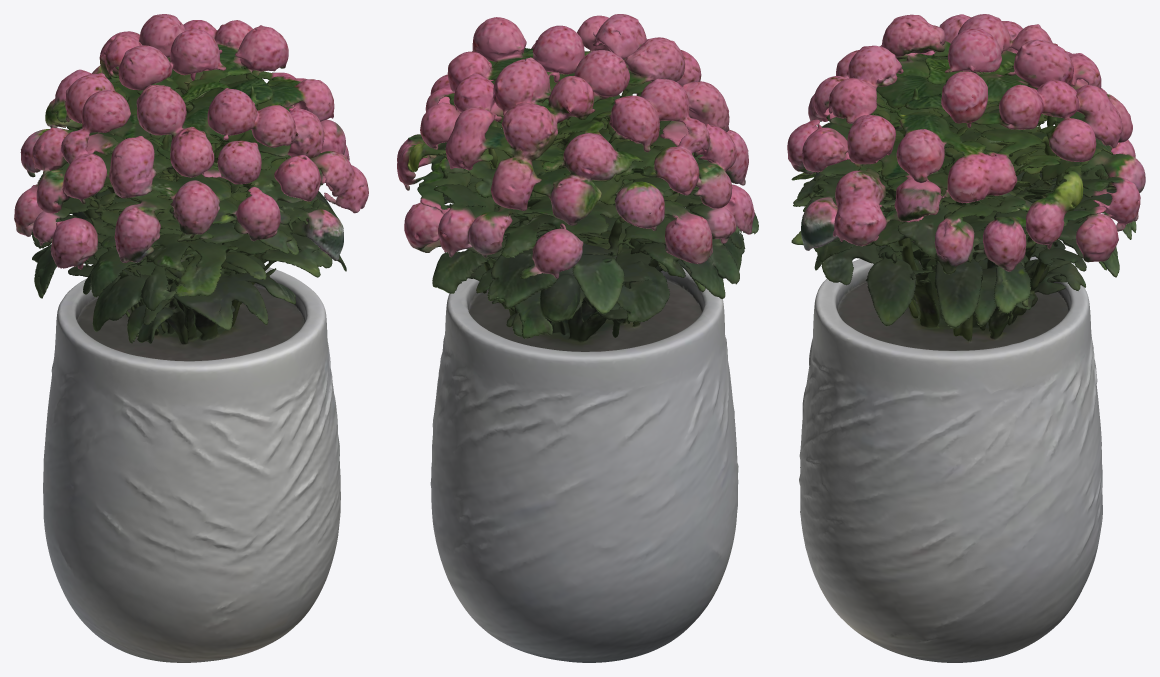
File: 123_Original_04.glb
The picture shows the model from 3 angles, left to right: view 1: azimuth 30°, elevation 25°; view 2: azimuth 150°, elevation 25°; view 3: azimuth 270°, elevation 25°; orthographic projection. The views are drawn at different scales.
Parts seen in each view (by area): view 1: tripo_node_1f1ceb4f-9b1b-40ba-995e-9bb48a696402; view 2: tripo_node_1f1ceb4f-9b1b-40ba-995e-9bb48a696402; view 3: tripo_node_1f1ceb4f-9b1b-40ba-995e-9bb48a696402.
Part boxes in pixels (x1,y1,x2,y2): tripo_node_1f1ceb4f-9b1b-40ba-995e-9bb48a696402: (14,14,368,662); tripo_node_1f1ceb4f-9b1b-40ba-995e-9bb48a696402: (397,14,758,662); tripo_node_1f1ceb4f-9b1b-40ba-995e-9bb48a696402: (787,14,1145,662).
Size of the model in its own units: 0.5345 by 1 by 0.5282.
Materials: 1 (1 with a texture image).
